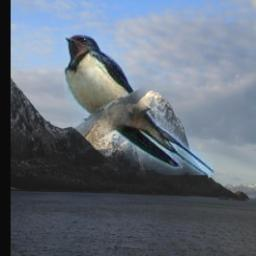Swallow: (65, 35, 214, 175)
